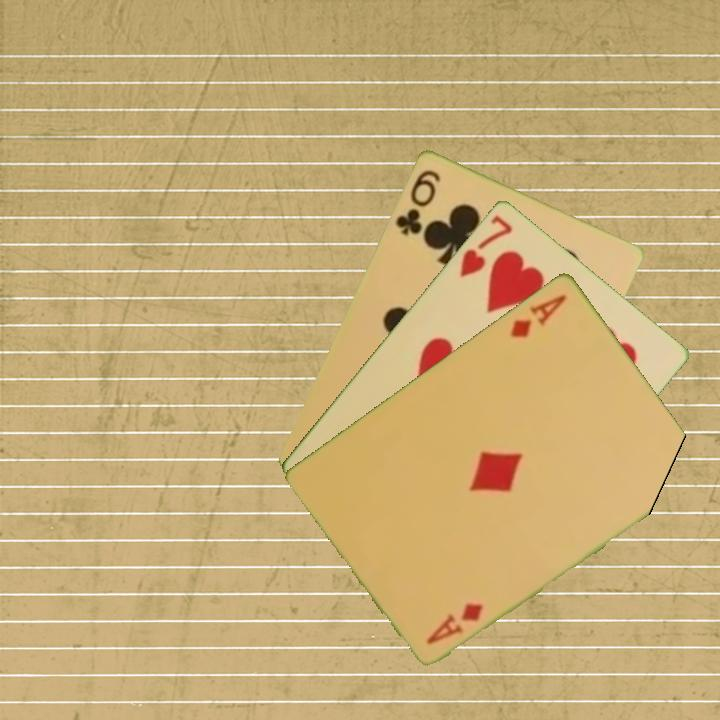6c: (391, 165, 444, 238)
7h: (456, 210, 516, 280)
Ad: (506, 290, 570, 340), (423, 598, 486, 647)
